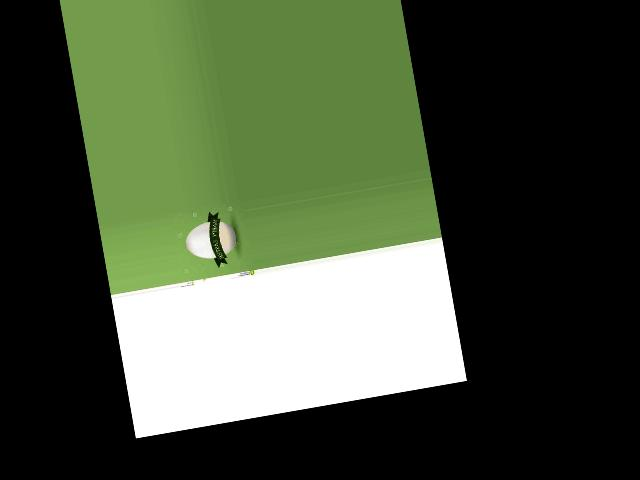egg: (183, 218, 239, 263)
